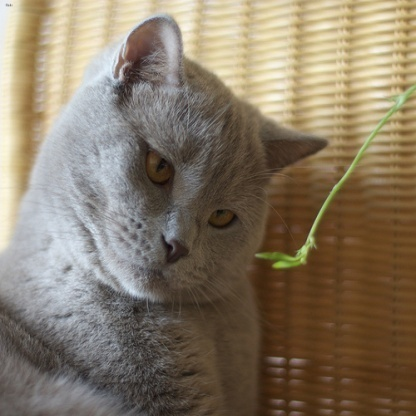british_shorthair: (1, 14, 328, 416)
